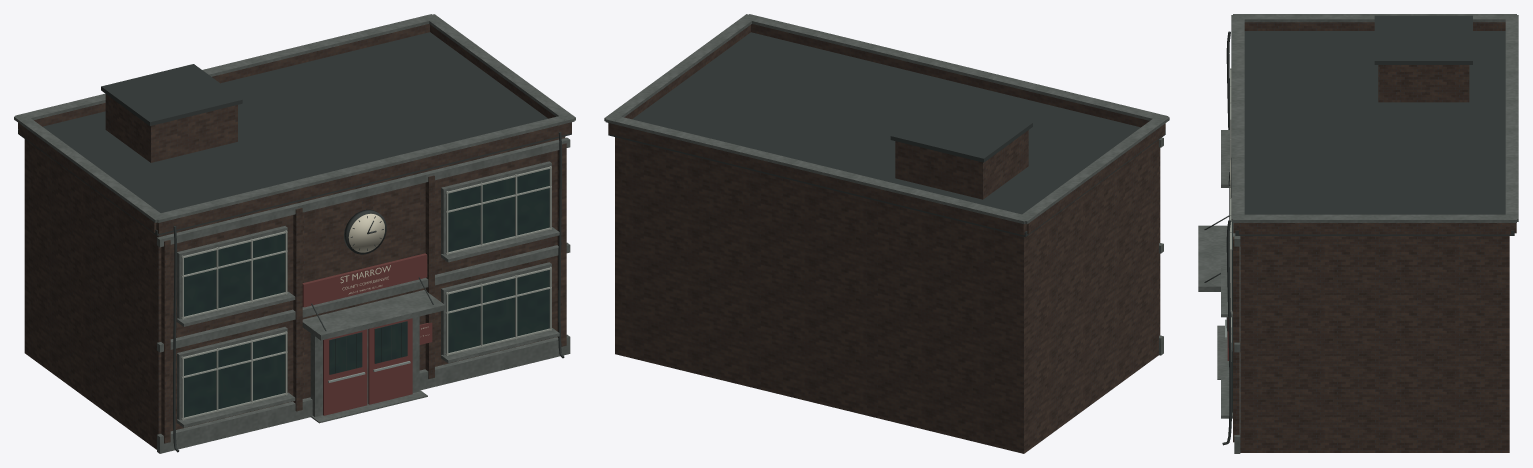
File: st-marrow-school-block.glb
3 renders of one model, left to right at view 1: azimuth 30°, elevation 25°; view 2: azimuth 150°, elevation 25°; view 3: azimuth 270°, elevation 25°, orthographic.
Visible parts, largest first — view 1: Two storey school masonry, School flat roof slab, Front concrete string course, Old school glazing.002, Old school glazing.003, Old school glazing.001, Old school glazing, Stair housing cap, Roof stair housing, School parapet, Front concrete string course.002, Front concrete string course.001 (+30 smaller); view 2: Two storey school masonry, School flat roof slab, Stair housing cap, Roof stair housing, School parapet.001, Parapet coping.001, Parapet coping, School parapet, Side roof coping, Side roof coping.001, Side parapet, Side parapet.001; view 3: Two storey school masonry, School flat roof slab, Stair housing cap, Roof stair housing, Side parapet.001, Parapet coping, Parapet coping.001, Side roof coping.001, Side roof coping, Concrete entrance canopy, Side parapet, School brick pilaster.003 (+6 smaller).
Boxes of the visible parts, bbox=[...] form: Two storey school masonry: bbox=[24, 136, 565, 449]; School flat roof slab: bbox=[18, 32, 571, 235]; Front concrete string course: bbox=[157, 334, 570, 453]; Old school glazing.002: bbox=[448, 270, 549, 352]; Old school glazing.003: bbox=[448, 169, 549, 252]; Old school glazing.001: bbox=[184, 233, 285, 316]; Old school glazing: bbox=[184, 334, 285, 417]; Stair housing cap: bbox=[101, 64, 242, 126]; Roof stair housing: bbox=[105, 94, 237, 162]; School parapet: bbox=[156, 122, 571, 233]; Front concrete string course.002: bbox=[157, 137, 570, 247]; Front concrete string course.001: bbox=[157, 242, 570, 352]; Two storey school masonry: bbox=[615, 137, 1158, 453]; School flat roof slab: bbox=[608, 32, 1165, 236]; Stair housing cap: bbox=[890, 100, 1032, 162]; Roof stair housing: bbox=[895, 130, 1028, 199]; School parapet.001: bbox=[608, 123, 1026, 235]; Parapet coping.001: bbox=[605, 116, 1025, 224]; Parapet coping: bbox=[749, 14, 1168, 120]; School parapet: bbox=[751, 24, 1165, 129]; Side roof coping: bbox=[1016, 114, 1169, 224]; Side roof coping.001: bbox=[604, 14, 757, 121]; Side parapet: bbox=[1026, 124, 1164, 234]; Side parapet.001: bbox=[624, 25, 750, 119]; Two storey school masonry: bbox=[1240, 236, 1509, 452]; School flat roof slab: bbox=[1235, 31, 1514, 235]; Stair housing cap: bbox=[1374, 15, 1472, 64]; Roof stair housing: bbox=[1378, 65, 1469, 102]; Side parapet.001: bbox=[1239, 223, 1510, 234]; Parapet coping: bbox=[1231, 15, 1244, 221]; Parapet coping.001: bbox=[1505, 15, 1518, 221]; Side roof coping.001: bbox=[1233, 214, 1516, 222]; Side roof coping: bbox=[1233, 14, 1516, 22]; Concrete entrance canopy: bbox=[1198, 225, 1229, 291]; Side parapet: bbox=[1244, 22, 1505, 30]; School brick pilaster.003: bbox=[1233, 236, 1239, 442].
Bounding box in the file's own units: 14.48 × 8.75 × 9.52.
8 materials, 3 textured.
